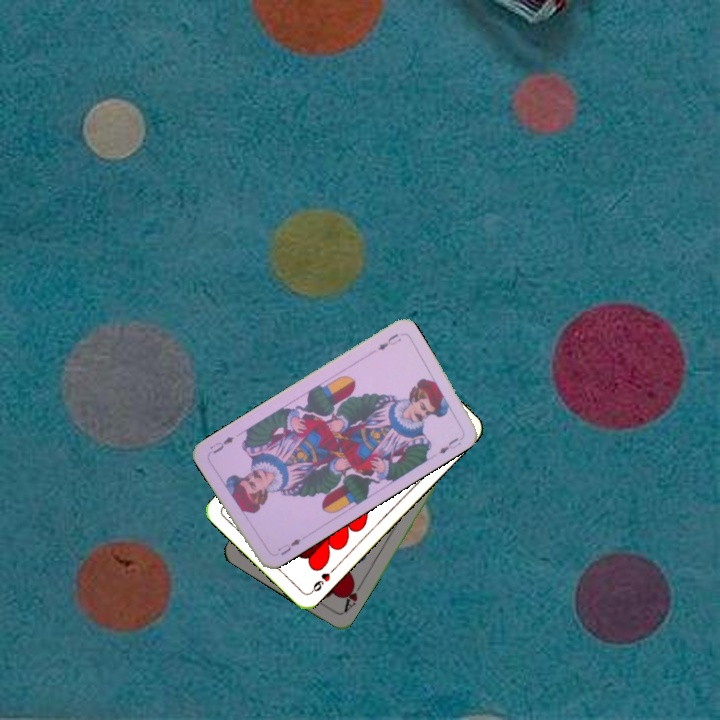EU: (373, 329, 404, 353), (273, 535, 304, 558)
H9: (306, 564, 338, 596)
HA: (340, 577, 365, 615)
